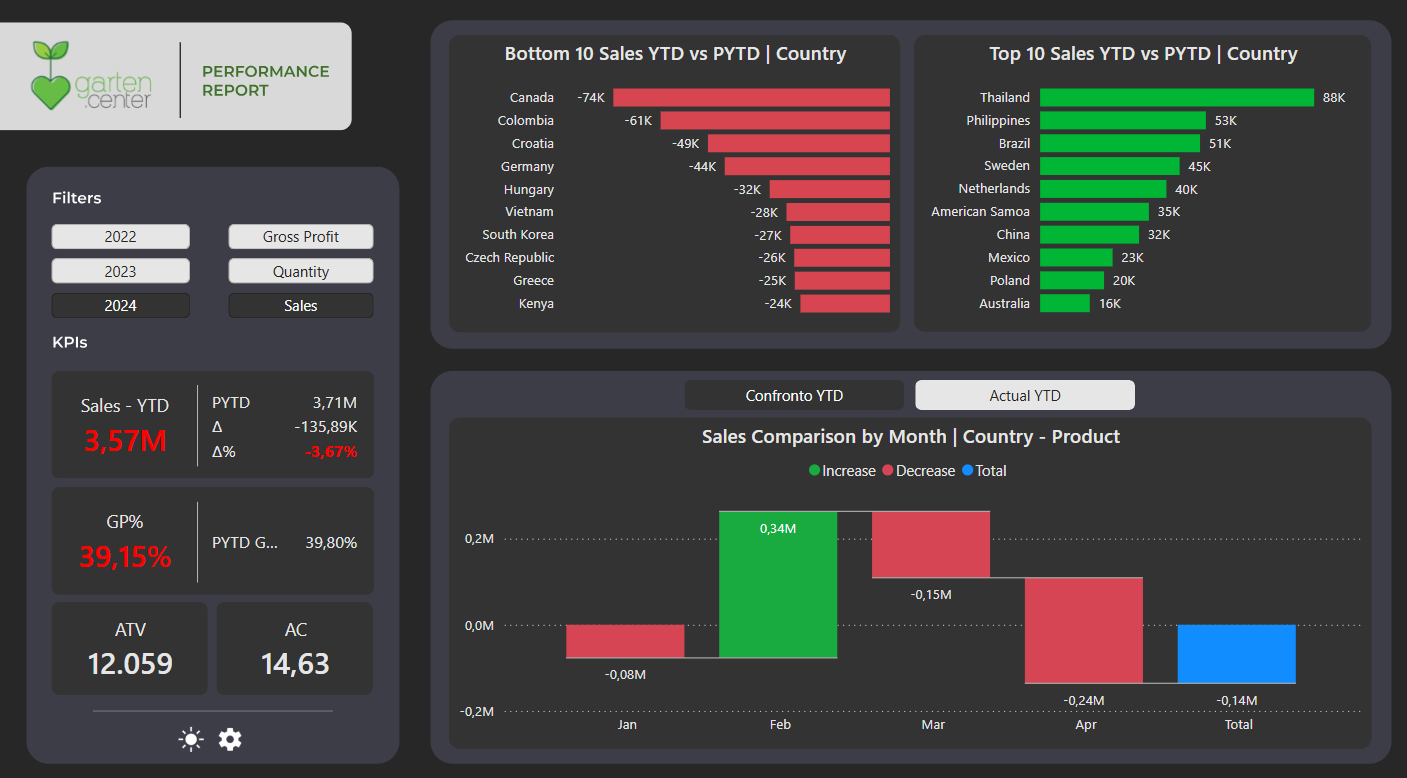

What the dashboard file says about the page in this screenshot:
{"tool":"powerbi","page":{"name":"Confronto YTD","canvas":[1280,720],"ordinal":1},"visuals":[{"type":"cardVisual","fields":{"Data":["_Measures.YTD","_Measures.GP%"]},"box":[41.9,331.9,301.4,213.6],"z":0},{"type":"advancedSlicerVisual","fields":{"Values":["Dim_Date.Year"]},"box":[41.9,200.4,135.2,95],"z":1000},{"type":"advancedSlicerVisual","title":"KPIs","fields":{"Values":["prmValues.Values"]},"box":[201.4,200.4,141.9,95],"z":2000},{"type":"waterfallChart","fields":{"Y":["_Measures.YTD vs PYTD"],"Category":["Dim_Date.Month","Dim_Account.country","Dim_Product.Produt_Type","Dim_Product.Product_Name"]},"box":[405.5,379.8,831.3,298.7],"z":3000},{"type":"clusteredBarChart","fields":{"Category":["Dim_Account.country"],"Y":["_Measures.YTD vs PYTD"]},"box":[405.5,35.1,406.9,268],"z":4000},{"type":"clusteredBarChart","fields":{"Category":["Dim_Account.country"],"Y":["_Measures.YTD vs PYTD"]},"box":[824.5,35.1,412.3,267.6],"z":6000},{"type":"cardVisual","fields":{"Data":["_Measures.Mean Transaction Value","_Measures.Average Cost Per Unit"]},"box":[41.9,541,301.4,94.6],"z":7000},{"type":"image","box":[156,650,35,39],"z":8000},{"type":"image","box":[190,650,35,39],"z":9000},{"type":"pageNavigator","box":[618,346,406.9,27],"z":10000}]}

Visuals, with their boxes in screenshot pixels (x1, y1, x2, y2), scaled from the page's 1280x720 canvas onto the 1407x778 screenshot:
cardVisual - _Measures.YTD x _Measures.GP%: rect(46, 359, 377, 589)
advancedSlicerVisual - Dim_Date.Year: rect(46, 217, 195, 319)
"KPIs" advancedSlicerVisual: rect(221, 217, 377, 319)
waterfallChart - _Measures.YTD vs PYTD x Dim_Date.Month: rect(446, 410, 1360, 733)
clusteredBarChart - Dim_Account.country x _Measures.YTD vs PYTD: rect(446, 38, 893, 328)
clusteredBarChart - Dim_Account.country x _Measures.YTD vs PYTD: rect(906, 38, 1360, 327)
cardVisual - _Measures.Mean Transaction Value x _Measures.Average Cost Per Unit: rect(46, 585, 377, 687)
image: rect(171, 702, 210, 745)
image: rect(209, 702, 247, 745)
pageNavigator: rect(679, 374, 1127, 403)
